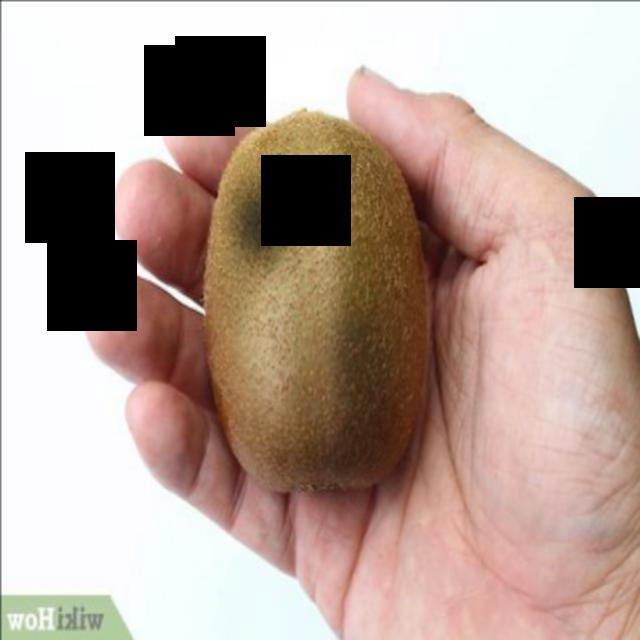kiwi: (204, 105, 427, 495)
